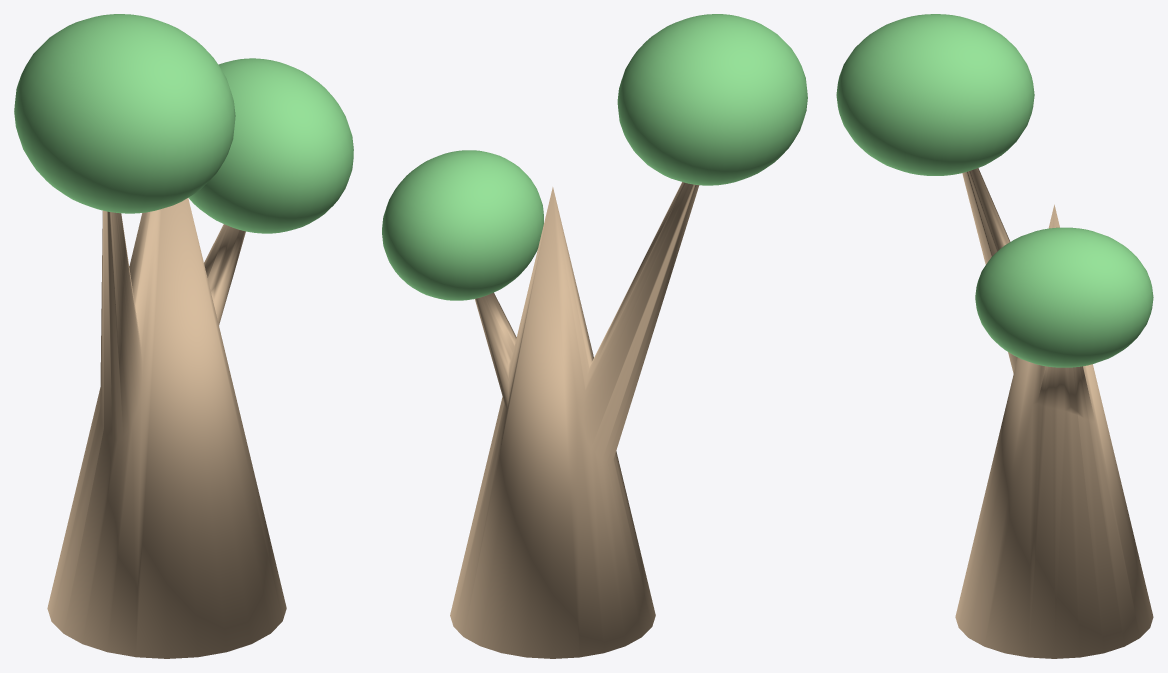
File: level6.glb
3 views of the same model, side by side, from view 1: azimuth 30°, elevation 25°; view 2: azimuth 150°, elevation 25°; view 3: azimuth 270°, elevation 25° (orthographic). The views are drawn at different scales.
Parts seen in each view (by area): view 1: obj_0.005; view 2: obj_0.005; view 3: obj_0.005.
Part boxes in pixels (x1,y1,x2,y2): obj_0.005: (14,14,353,658); obj_0.005: (382,14,807,658); obj_0.005: (836,14,1153,658).
Size of the model in its own units: 37 by 61 by 32.
